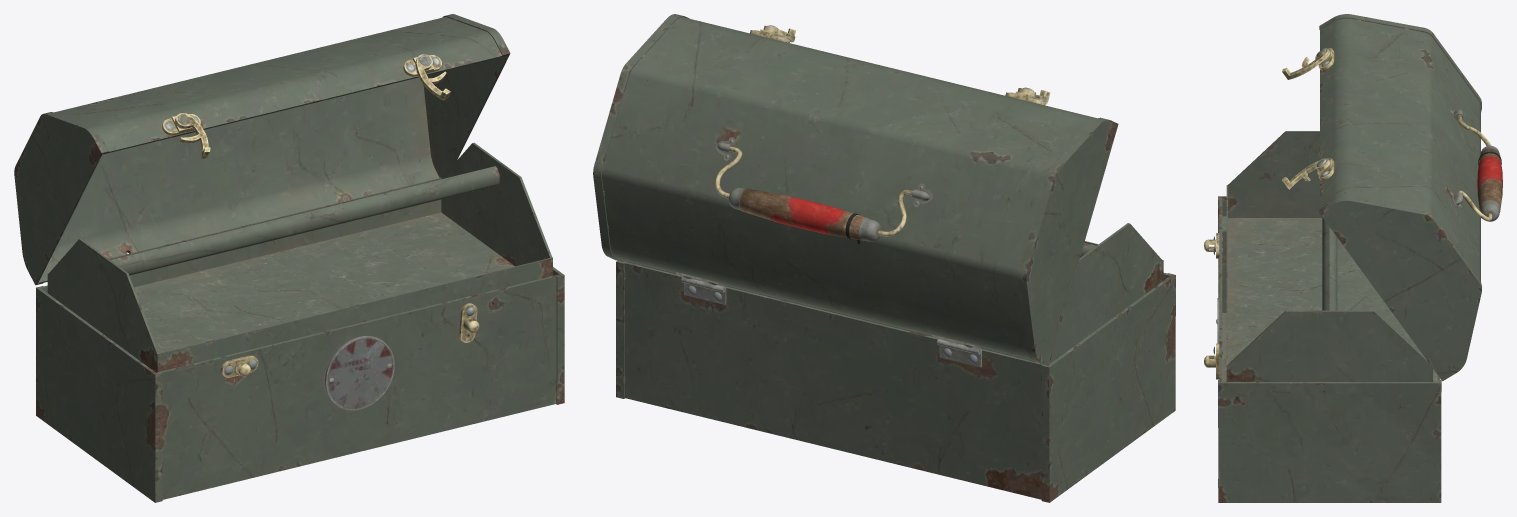
File: metal_toolbox_1k.glb
3 renders of one model, left to right at view 1: azimuth 30°, elevation 25°; view 2: azimuth 150°, elevation 25°; view 3: azimuth 270°, elevation 25°, orthographic. The views are drawn at different scales.
Parts seen in each view (by area): view 1: Cylinder.015, metal_toolbox, metal_toolbox_tray, metal_toolbox_handle_latch_r, metal_toolbox_handle_latch_l; view 2: Cylinder.015, metal_toolbox, metal_toolbox_tray, metal_toolbox_handle; view 3: Cylinder.015, metal_toolbox_tray, metal_toolbox, metal_toolbox_handle, metal_toolbox_handle_latch_l, metal_toolbox_handle_latch_r.
Part boxes in pixels (x1,y1,x2,y2): Cylinder.015: (14,14,510,285); metal_toolbox: (36,267,564,502); metal_toolbox_tray: (47,142,552,372); metal_toolbox_handle_latch_r: (415,54,450,100); metal_toolbox_handle_latch_l: (175,113,210,158); Cylinder.015: (593,14,1118,365); metal_toolbox: (616,260,1175,502); metal_toolbox_tray: (628,223,1163,363); metal_toolbox_handle: (715,146,912,244); Cylinder.015: (1317,14,1481,381); metal_toolbox_tray: (1226,131,1432,381); metal_toolbox: (1204,196,1441,502); metal_toolbox_handle: (1457,114,1502,221); metal_toolbox_handle_latch_l: (1282,48,1330,79); metal_toolbox_handle_latch_r: (1282,158,1330,189).
Size of the model in its own units: 0.4 by 0.3047 by 0.2705.
Materials: 1 (1 with a texture image).
